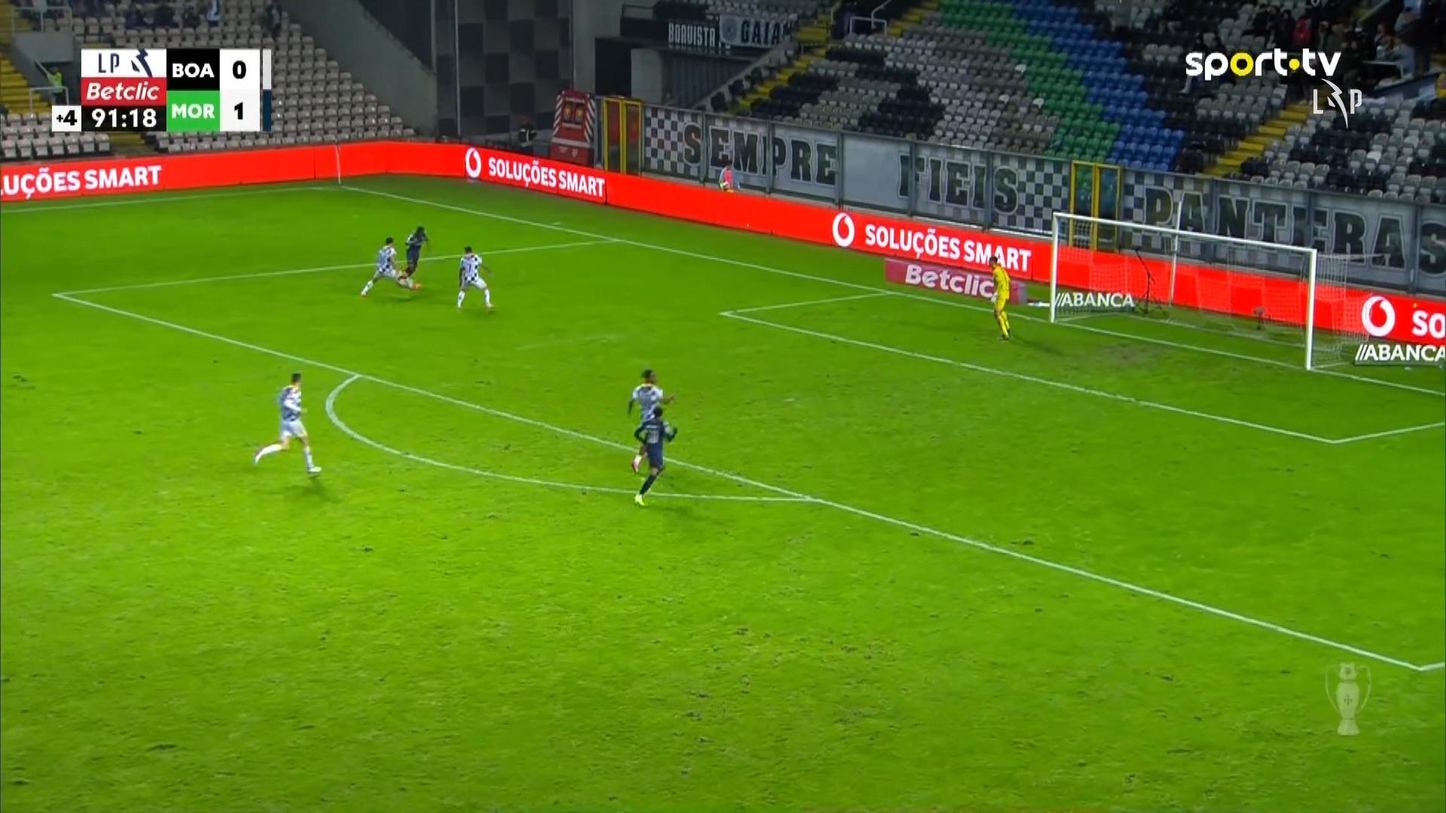goalkeeper: (987, 254, 1012, 340)
player: (252, 370, 322, 476), (627, 367, 675, 473), (630, 403, 677, 507), (358, 236, 419, 297), (455, 245, 494, 309), (402, 224, 430, 279)
